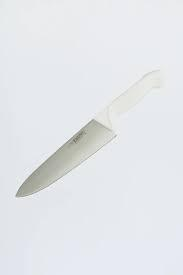Knife: (15, 67, 162, 197)
